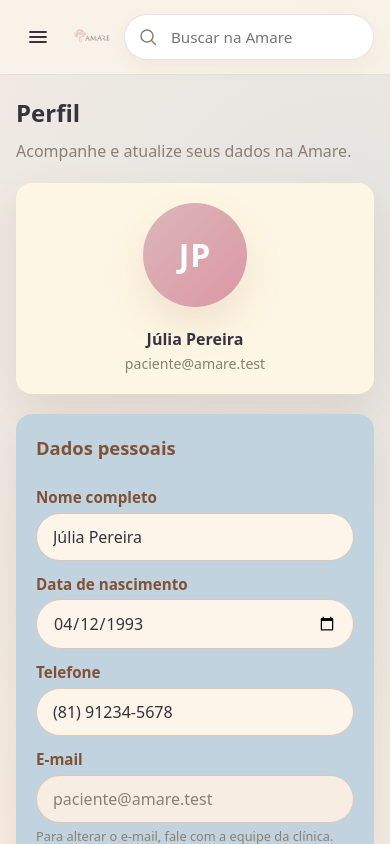
Test: Responsividade mobile da Amare › 6. Tocar no backdrop fecha o drawer
The image size is (390, 844).
What coordinates should you click on to do the following:
click the button with test id "nav-abrir-drawer"
I would click on:
 (38, 37)
Its box is [16,15,60,59].
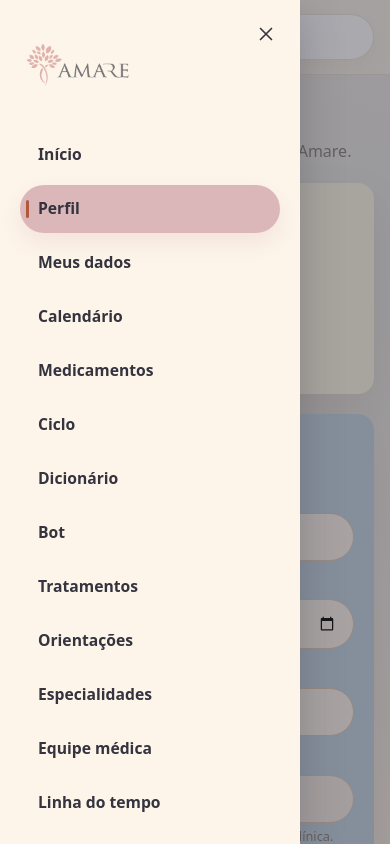
What coordinates should you click on to do the following:
click the element with test id "app-layout-backdrop"
I would click on:
 (195, 422)
Its box is [0,0,389,843].
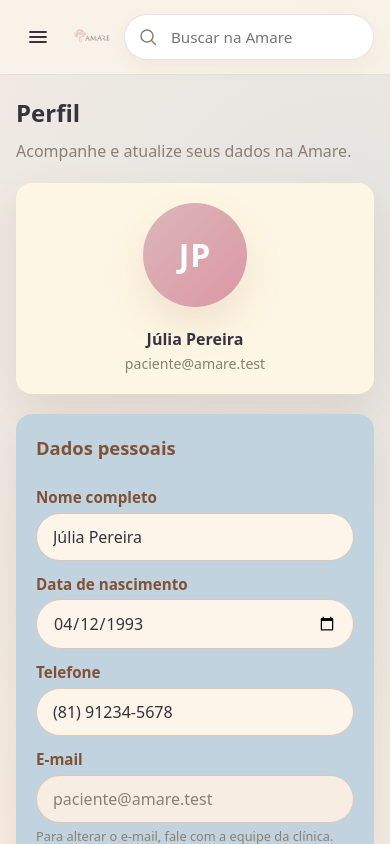
expect the dialog with test id "app-layout-drawer" is gone: met
